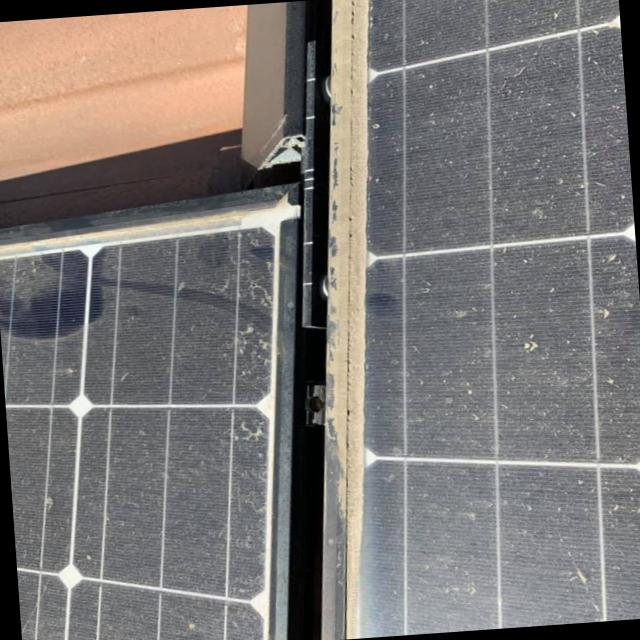faulty: (306, 0, 640, 638), (0, 218, 309, 640)
